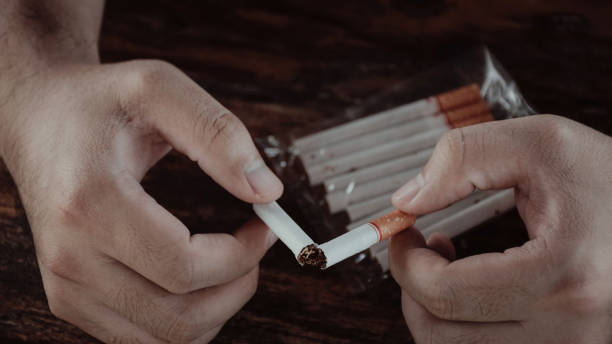cigarette: (303, 113, 494, 186), (294, 101, 489, 172), (371, 187, 516, 274), (291, 82, 482, 148), (366, 187, 505, 258), (313, 207, 417, 269), (321, 147, 435, 193), (322, 166, 424, 214), (252, 200, 318, 266), (343, 192, 396, 222), (344, 205, 399, 232)
